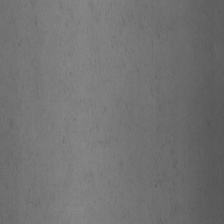silk_spot: (56, 10, 175, 129)
